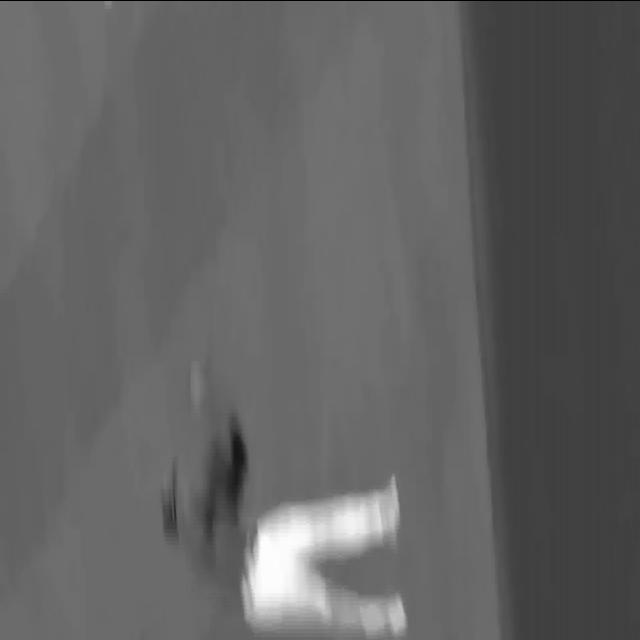baseball_glove: (186, 359, 230, 416)
shoe: (379, 473, 400, 542), (388, 594, 407, 636)
